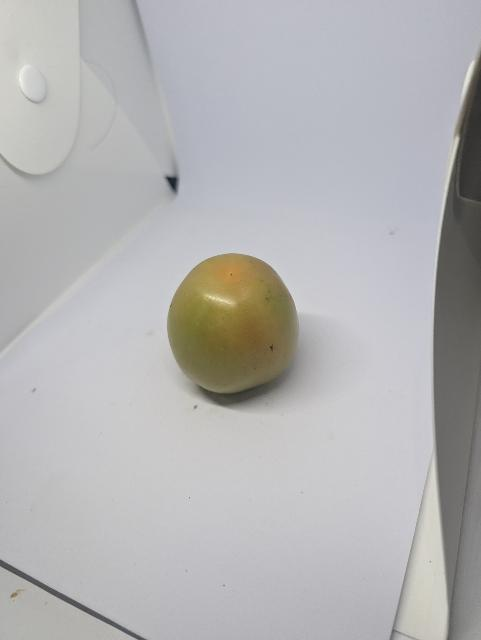breaker: (163, 246, 307, 400)
